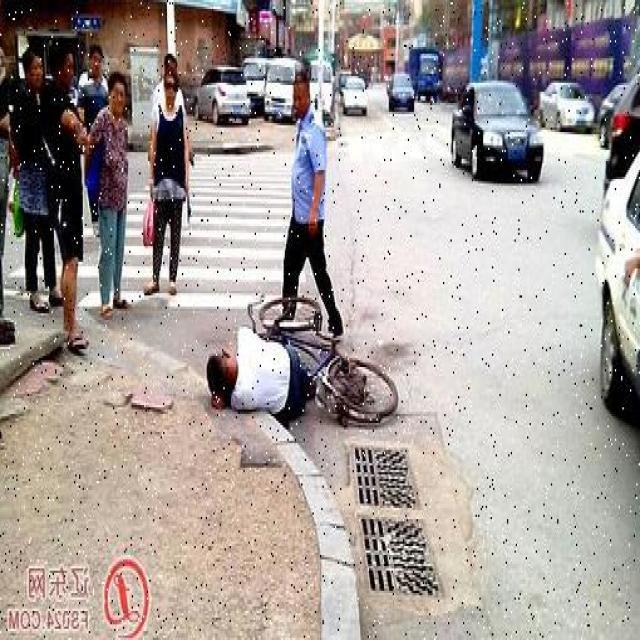fall: (197, 329, 320, 409)
